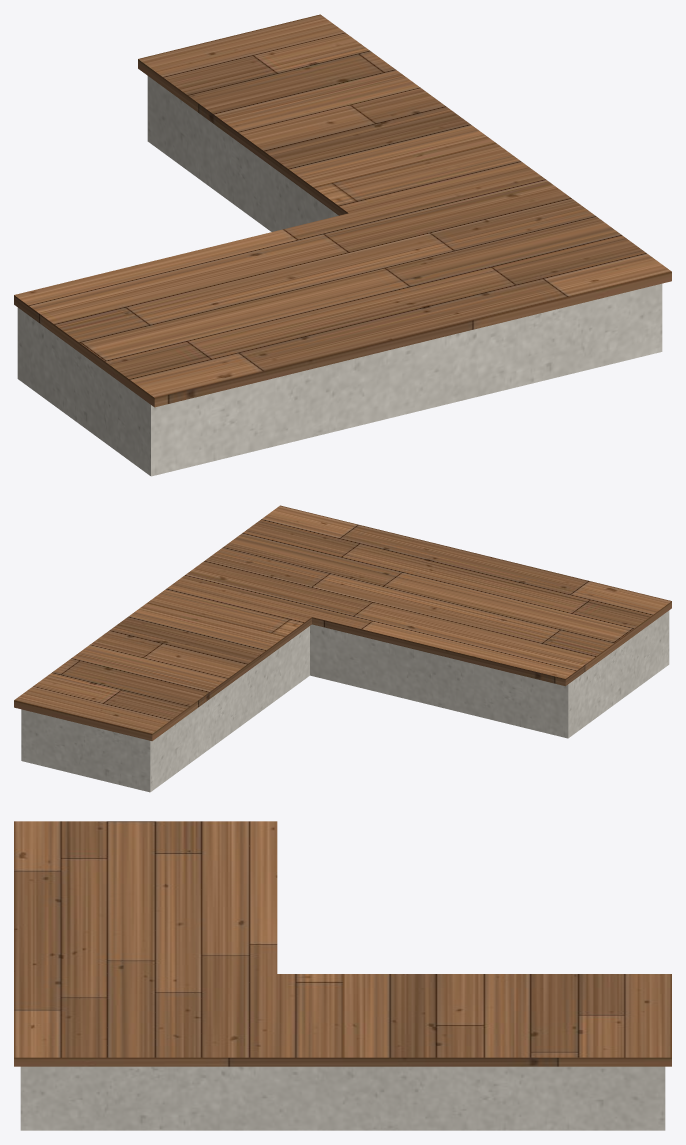
Rendered from floor_floor_u_e1000_h2.glb.
The picture shows the model from 3 angles, top to bottom: view 1: azimuth 30°, elevation 25°; view 2: azimuth 150°, elevation 25°; view 3: azimuth 270°, elevation 25°; orthographic projection. The views are drawn at different scales.
Visible parts, largest first — view 1: floor_floor_u_e1000_h2_floor, floor_floor_u_e1000_h2_plaster; view 2: floor_floor_u_e1000_h2_floor, floor_floor_u_e1000_h2_plaster; view 3: floor_floor_u_e1000_h2_floor, floor_floor_u_e1000_h2_plaster.
Part boxes in pixels (box(x1,y1,x2,y2)): floor_floor_u_e1000_h2_floor: box(14, 14, 671, 407); floor_floor_u_e1000_h2_plaster: box(17, 76, 662, 476); floor_floor_u_e1000_h2_floor: box(14, 505, 671, 740); floor_floor_u_e1000_h2_plaster: box(21, 610, 669, 792); floor_floor_u_e1000_h2_floor: box(14, 821, 671, 1066); floor_floor_u_e1000_h2_plaster: box(20, 1066, 665, 1130).
Size of the model in its own units: 1.7 by 0.255 by 2.
Materials: 2 (2 with a texture image).
